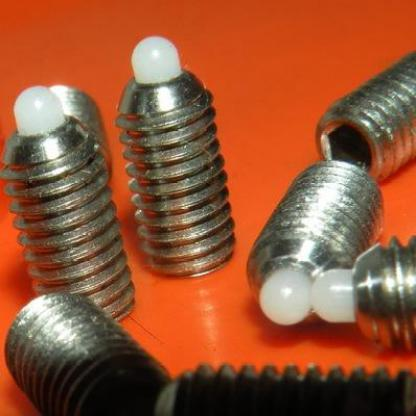FOD: (0, 84, 137, 327), (119, 37, 237, 280)
